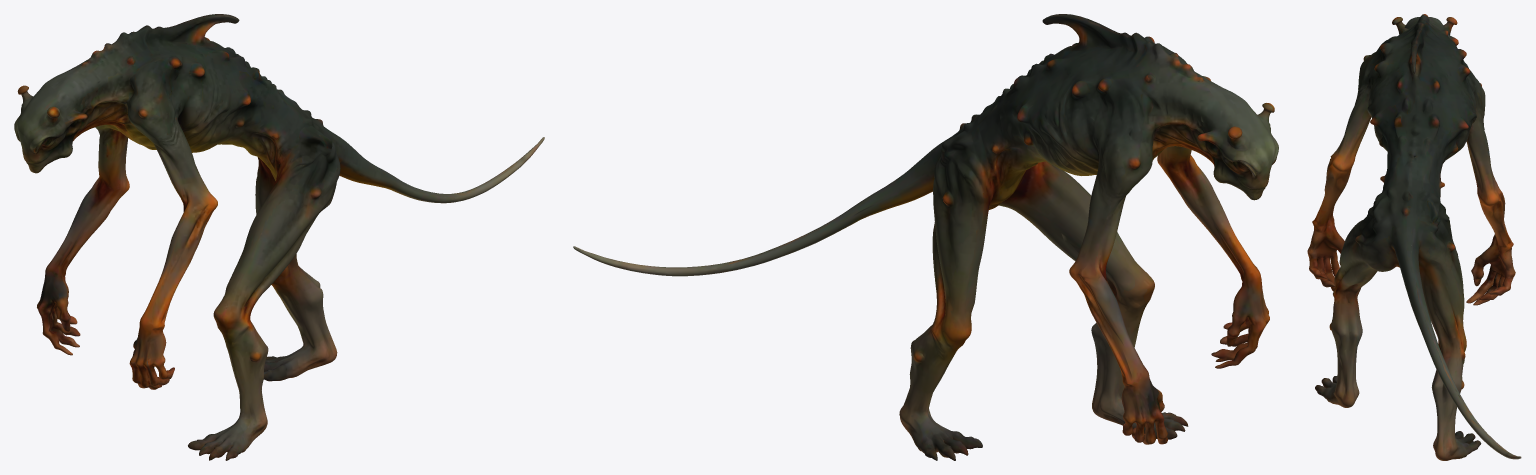
The model's file is character_alien.glb.
The picture shows the model from 3 angles, left to right: view 1: azimuth 30°, elevation 25°; view 2: azimuth 150°, elevation 25°; view 3: azimuth 270°, elevation 25°; orthographic projection. The views are drawn at different scales.
Parts seen in each view (by area): view 1: material; view 2: material; view 3: material.
Boxes of the visible parts, box(x1,y1,x2,y2) form: material: box(14, 14, 544, 460); material: box(573, 14, 1278, 460); material: box(1307, 14, 1521, 460).
Bounding box in the file's own units: 1.1 × 0.733 × 0.3944.
1 material, 1 textured.
